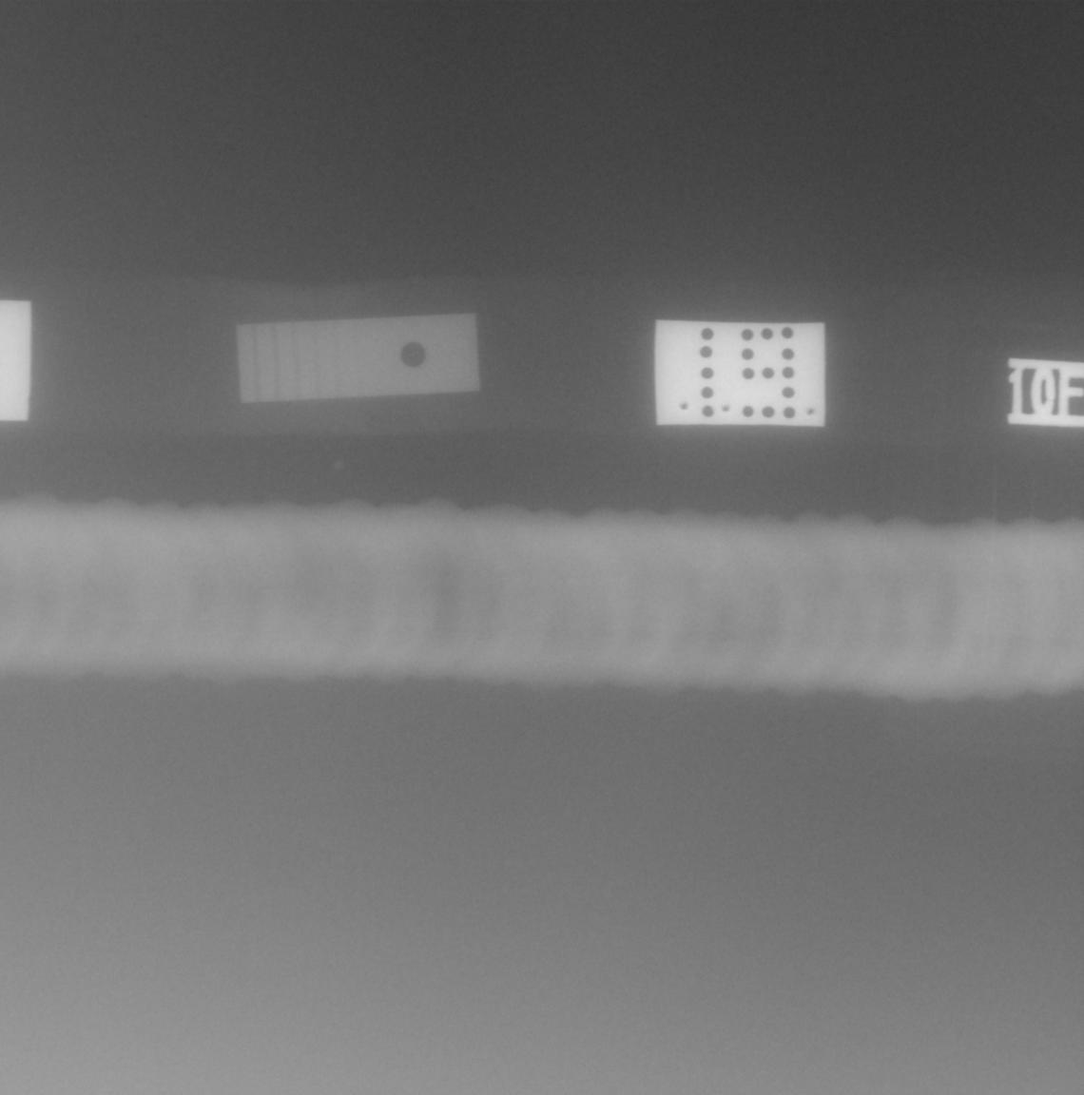Reference Standard 1: (237, 313, 480, 404)
